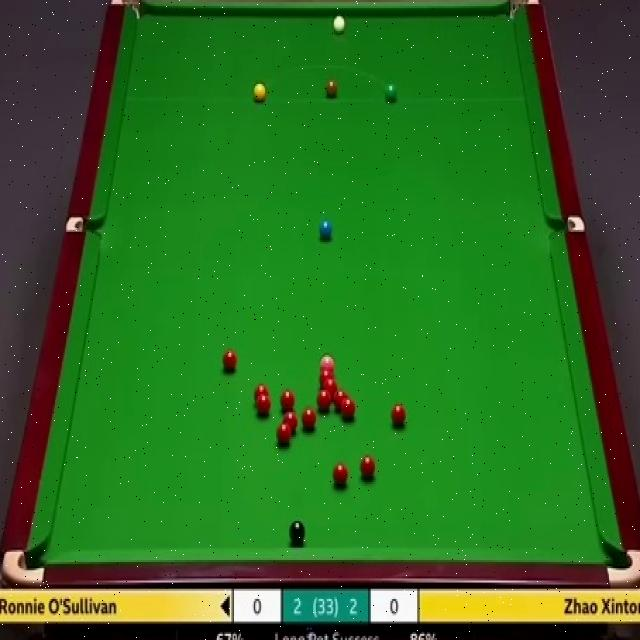black-ball: (289, 517, 305, 545)
blue-ball: (318, 218, 333, 243)
brown-ball: (325, 80, 337, 98)
green-ball: (385, 83, 397, 102)
pink-ball: (319, 352, 334, 368)
red-ball: (277, 422, 294, 448), (391, 404, 407, 427), (341, 396, 356, 420), (222, 348, 237, 372), (360, 456, 376, 478), (332, 463, 348, 485), (257, 396, 272, 419), (302, 407, 317, 430), (254, 382, 270, 402), (280, 392, 295, 412), (315, 390, 331, 408), (285, 412, 299, 431), (320, 377, 339, 391), (335, 392, 349, 408), (318, 369, 335, 379)
white-ball: (332, 14, 346, 36)
yellow-ball: (253, 81, 267, 103)
